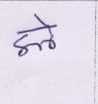o_matra: (40, 17, 57, 50)
